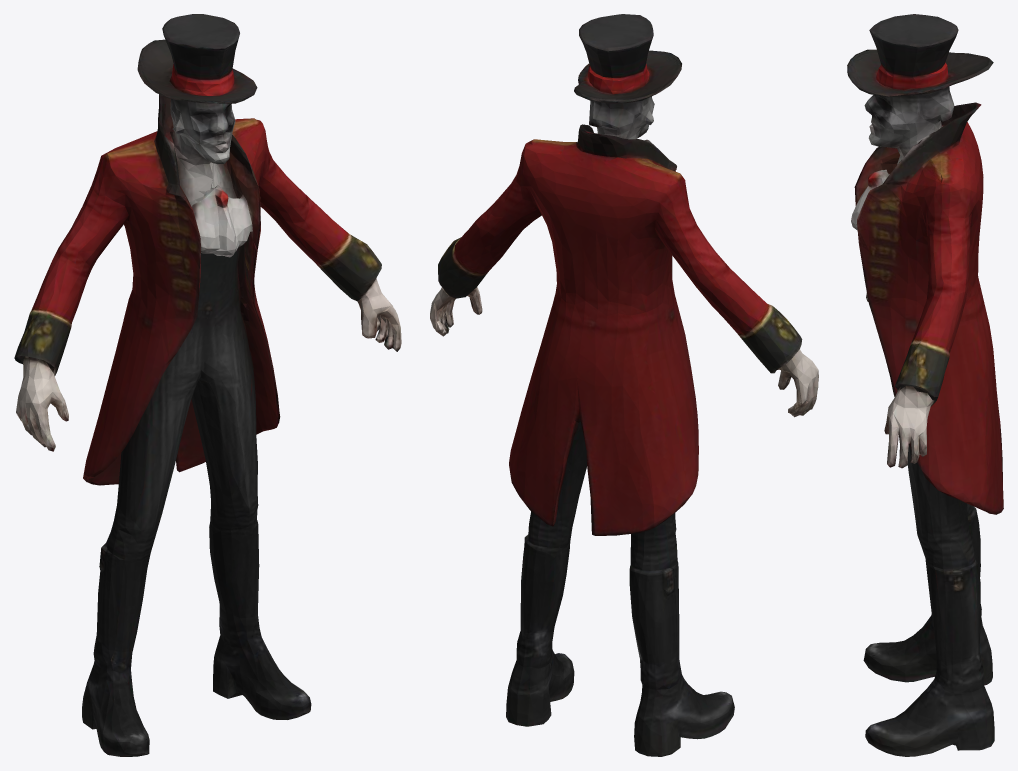
The model's file is ringmaster.glb.
3 renders of one model, left to right at view 1: azimuth 30°, elevation 25°; view 2: azimuth 150°, elevation 25°; view 3: azimuth 270°, elevation 25°, orthographic. The views are drawn at different scales.
Parts seen in each view (by area): view 1: geometry_0; view 2: geometry_0; view 3: geometry_0.
Boxes of the visible parts, left/top/right/bottom form: geometry_0: left=14, top=14, right=401, bottom=756; geometry_0: left=430, top=14, right=818, bottom=756; geometry_0: left=847, top=14, right=1003, bottom=756.
Size of the model in its own units: 0.5714 by 0.9994 by 0.2078.
1 material, 1 textured.
